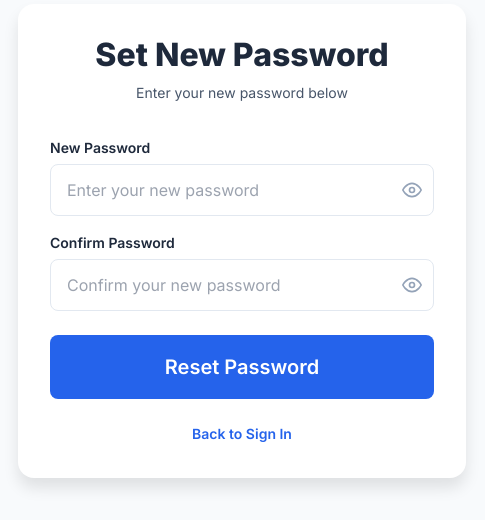
Test: ResetPassword › shows validation error when passwords do not match
Type "password123" into the password field labelled "New Password" at (242, 190), box [50,164,434,216]
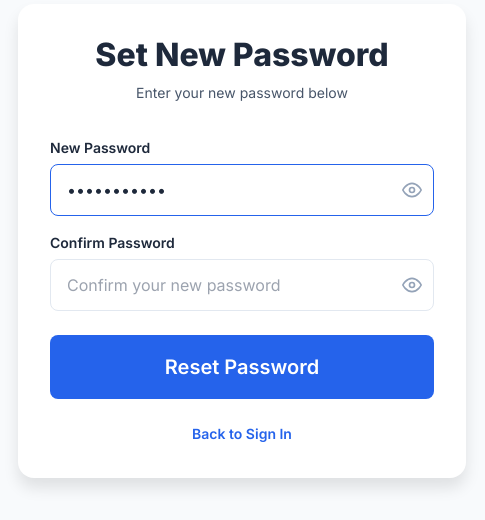
Type "different" into the password field labelled "Confirm Password" at (242, 285), box [50,259,434,311]
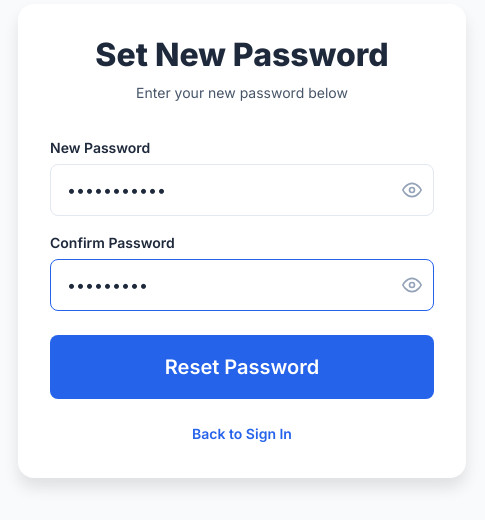
Click the button "Reset Password" at (242, 367), box [50,335,434,399]
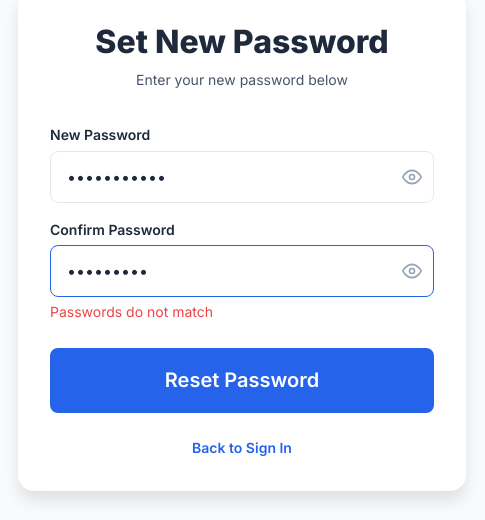
Expected: the text "Passwords do not match" is shown, [50,303,213,320]
